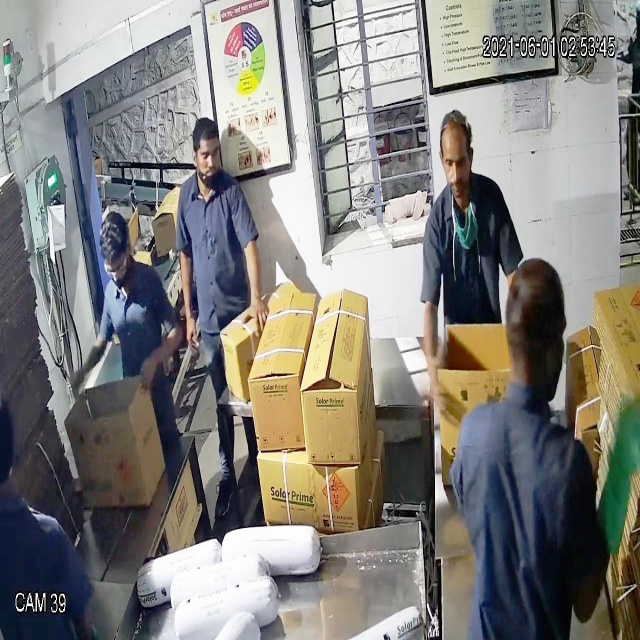Sin_gafas: (435, 148, 478, 181), (191, 144, 224, 171)
